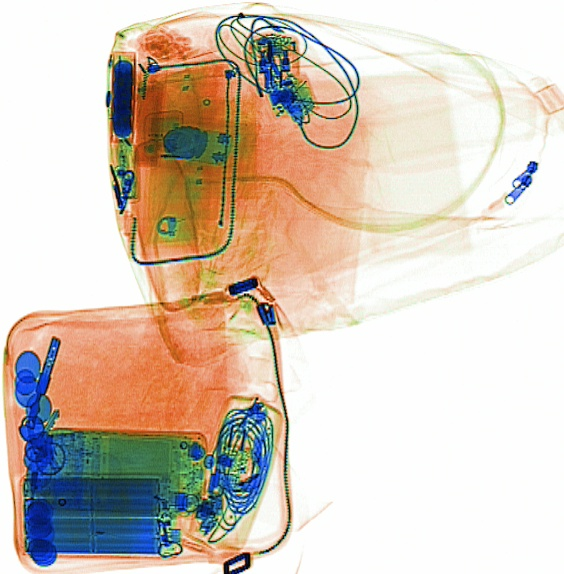powerbank: (17, 470, 178, 560), (106, 50, 139, 148)
